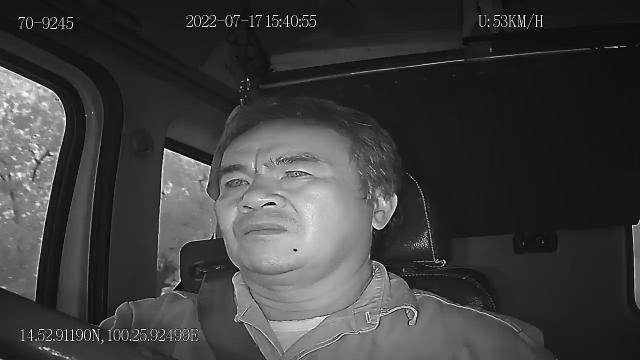SafeDriving: (274, 158, 320, 187), (216, 168, 256, 195)
Seatbelt: (195, 264, 269, 360)
